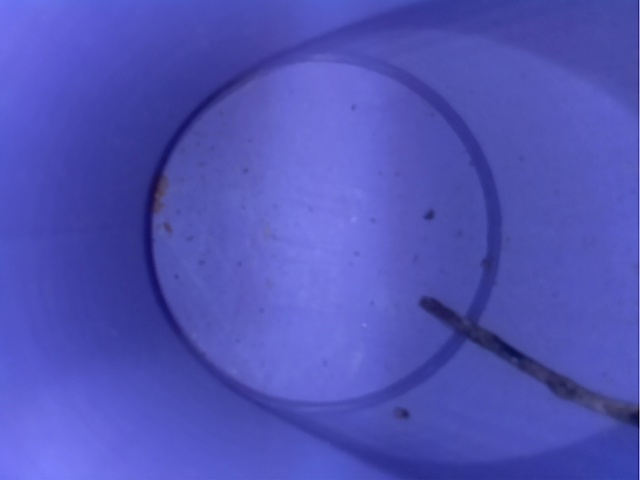ecorce: (411, 259, 637, 457)
